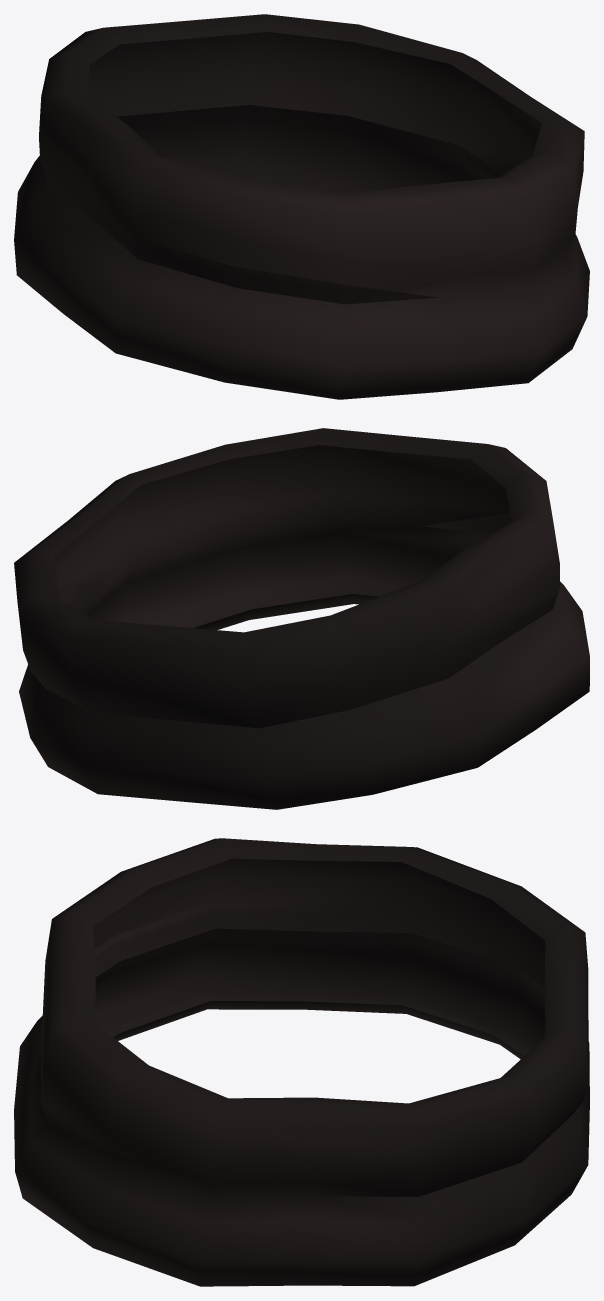
Rendered from gloves R.obj.
The picture shows the model from 3 angles, top to bottom: view 1: azimuth 30°, elevation 25°; view 2: azimuth 150°, elevation 25°; view 3: azimuth 270°, elevation 25°; orthographic projection.
Visible parts, largest first — view 1: glove_R; view 2: glove_R; view 3: glove_R.
Part boxes in pixels (x1=…): glove_R: x1=14, y1=14, x2=589, y2=399; glove_R: x1=14, y1=428, x2=589, y2=809; glove_R: x1=14, y1=838, x2=589, y2=1286.
Bounding box in the file's own units: 0.8795 × 0.4393 × 0.9203.
